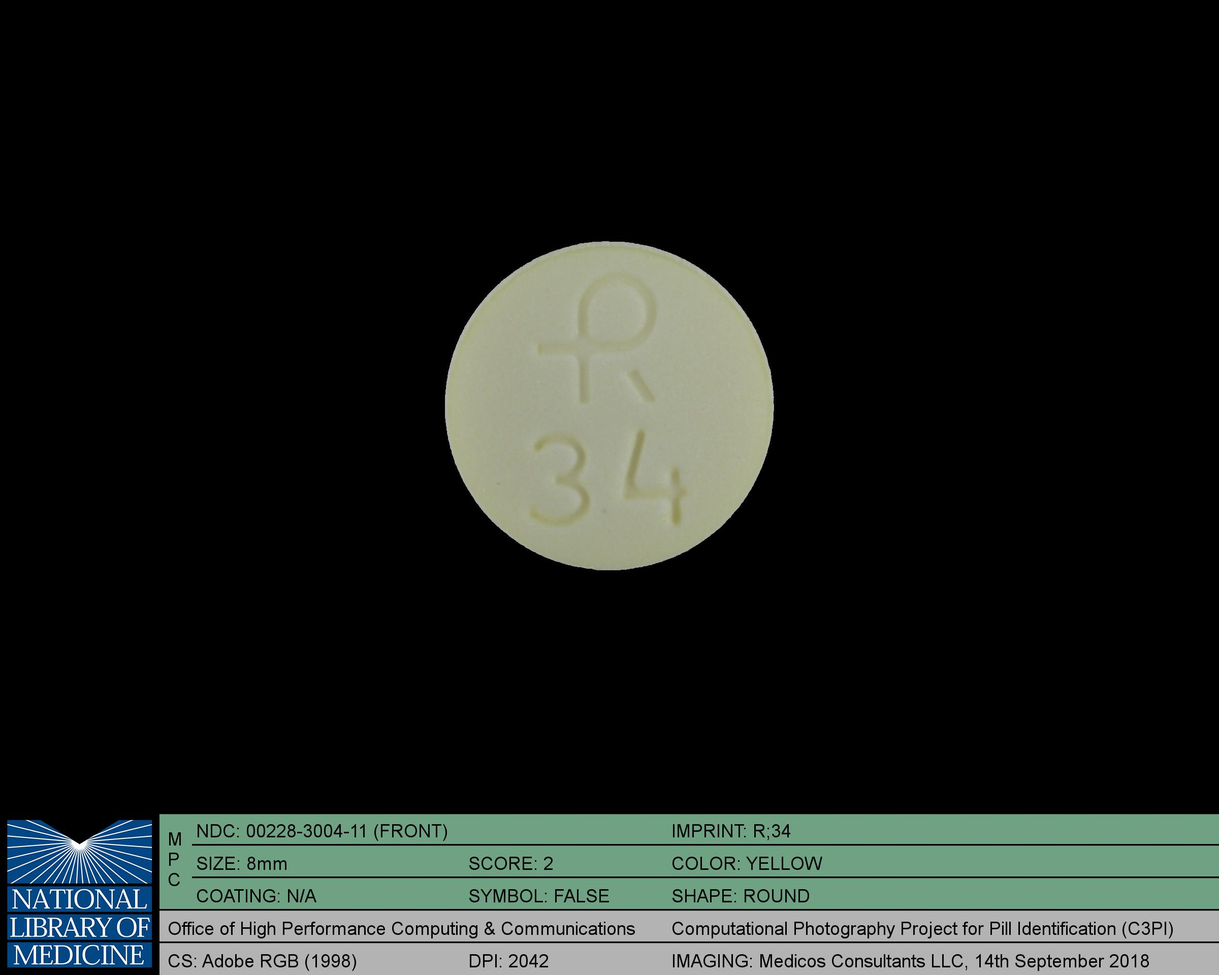Pill: (433, 230, 789, 579)
